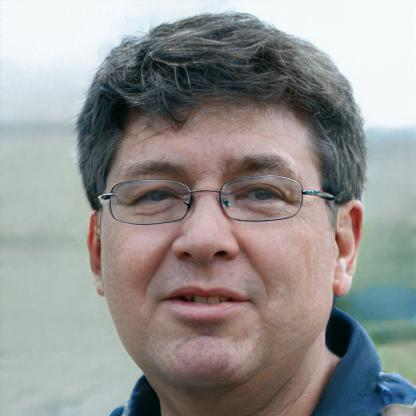glasses: (100, 176, 322, 224)
